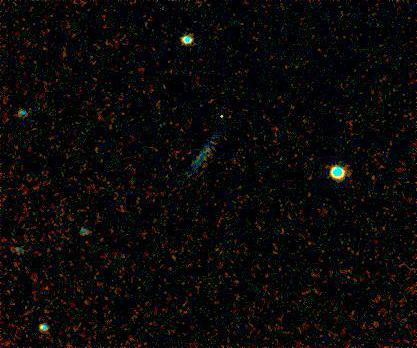star: (207, 108, 237, 138)
